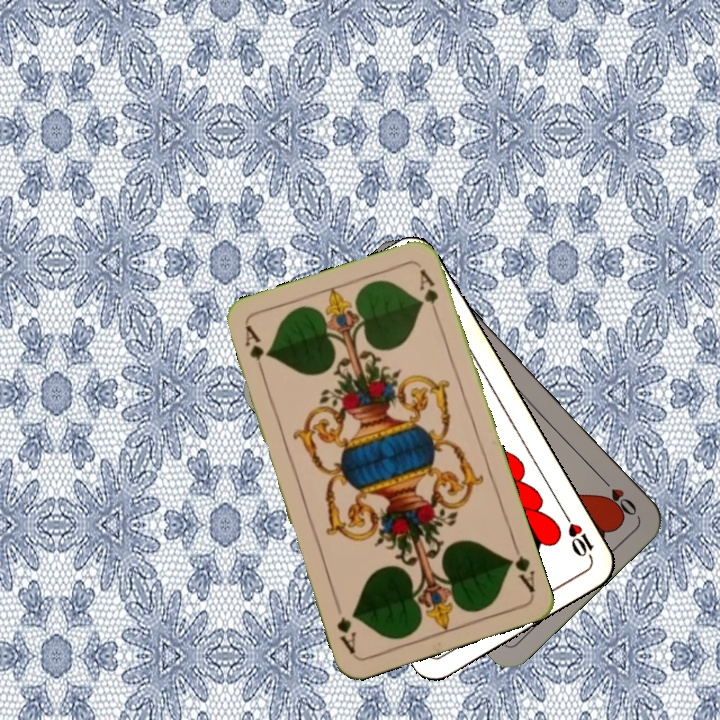GA: (503, 538, 538, 596), (240, 321, 268, 379)
H10: (559, 509, 597, 563)
HO: (595, 471, 640, 519)
